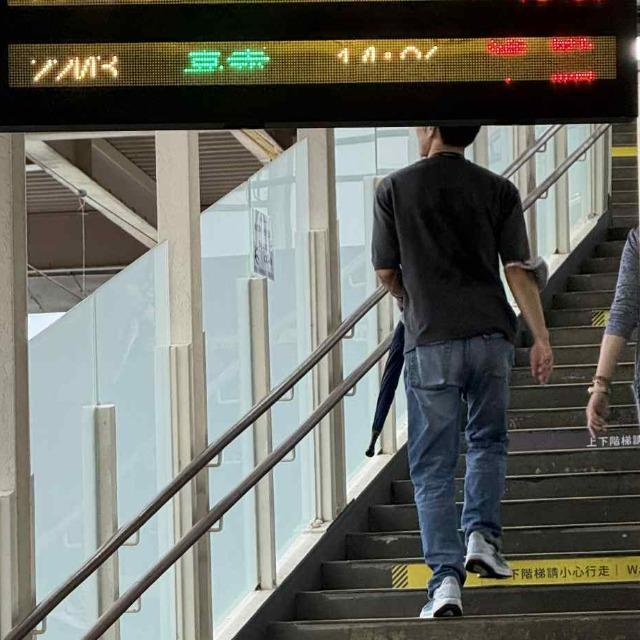NoVest: (376, 161, 526, 344)
